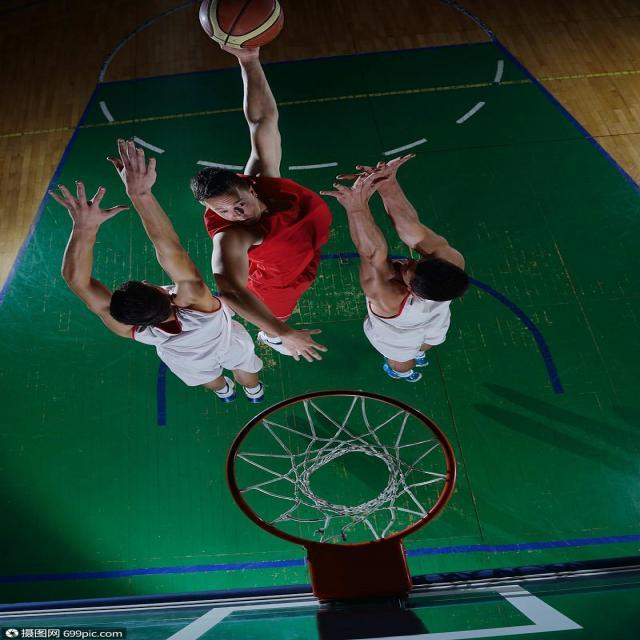rim: (196, 1, 289, 44)
